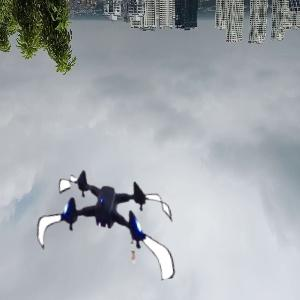drone: (34, 151, 176, 293)
